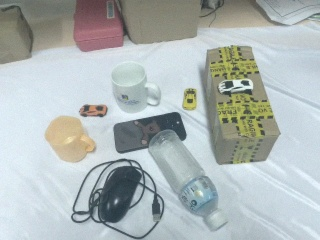bottle: (142, 125, 231, 233)
box: (204, 44, 281, 165), (118, 1, 202, 46), (1, 5, 33, 69)
cup: (110, 60, 163, 115), (44, 114, 98, 163)
mouse: (95, 165, 142, 224)
phone: (112, 110, 187, 154)
toy_car: (216, 76, 255, 95), (79, 103, 108, 118), (183, 88, 198, 110)
